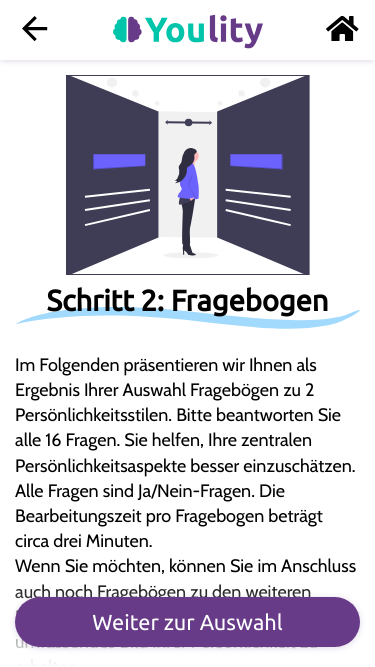
Questionnaire Intro › can navigate to questionnaire
This screenshot has width=375, height=667.
Click the button "Weiter zur Auswahl". click: click(188, 622)
box: [15,597,360,647]
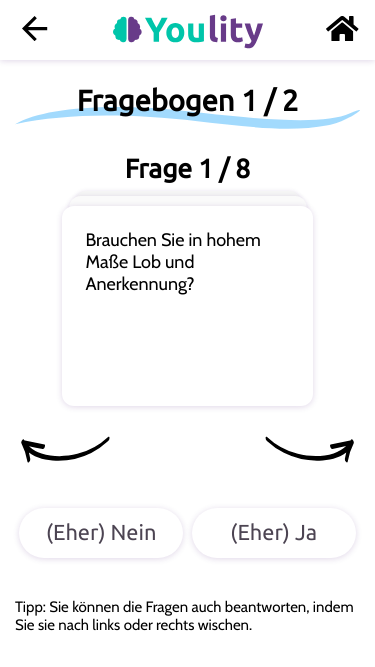
Result: the button "(Eher) Nein" is shown at [19,508,183,558]
Result: the button "(Eher) Ja" is shown at [192,508,356,558]
